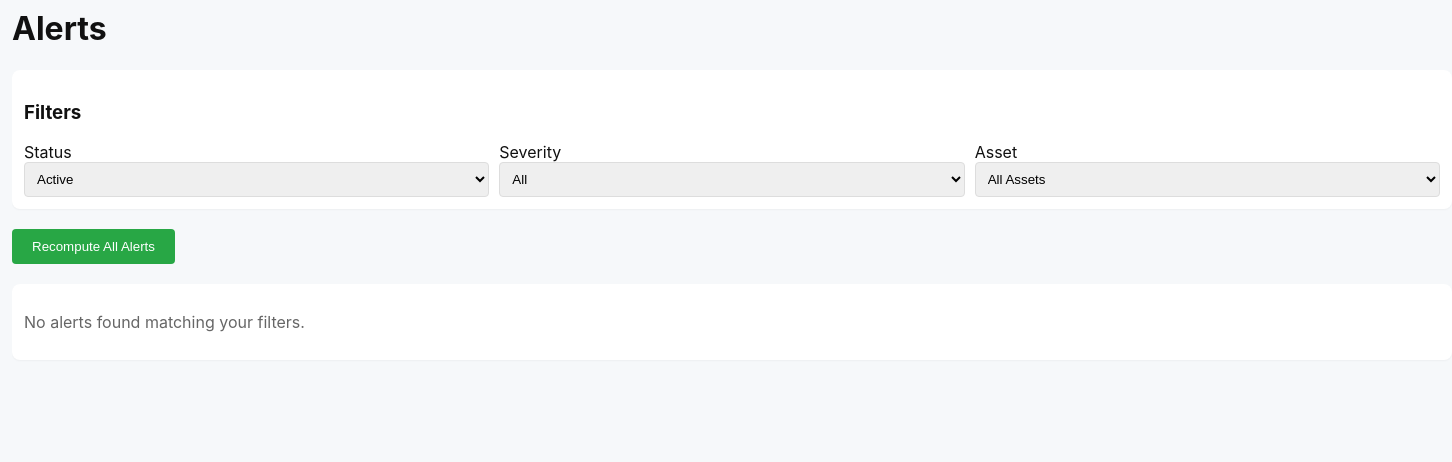
Scenario: AlertsPage › should display recompute confirmation dialog
Step 1. Click the button "Recompute All Alerts" → (94, 247), box [12, 229, 175, 264]
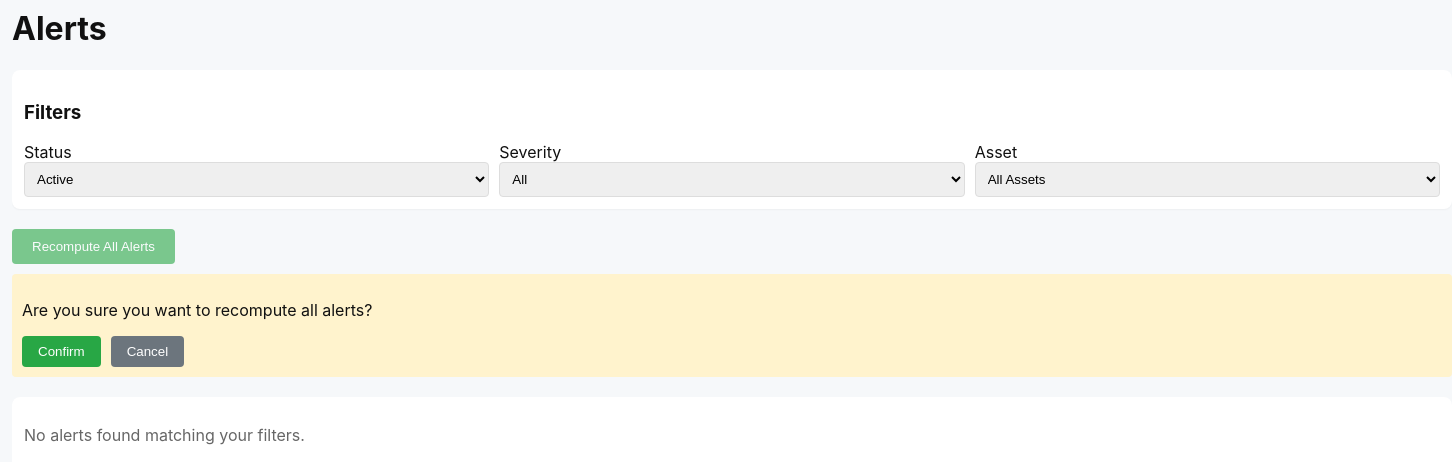
Now the text "Are you sure you want to recompute all alerts?" is shown, box [22, 300, 372, 320]
